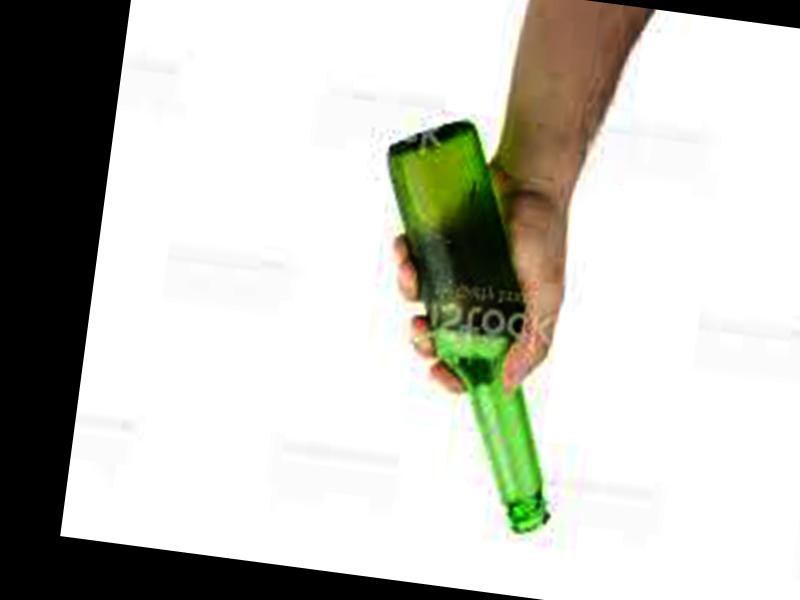Beer: (339, 116, 599, 540)
